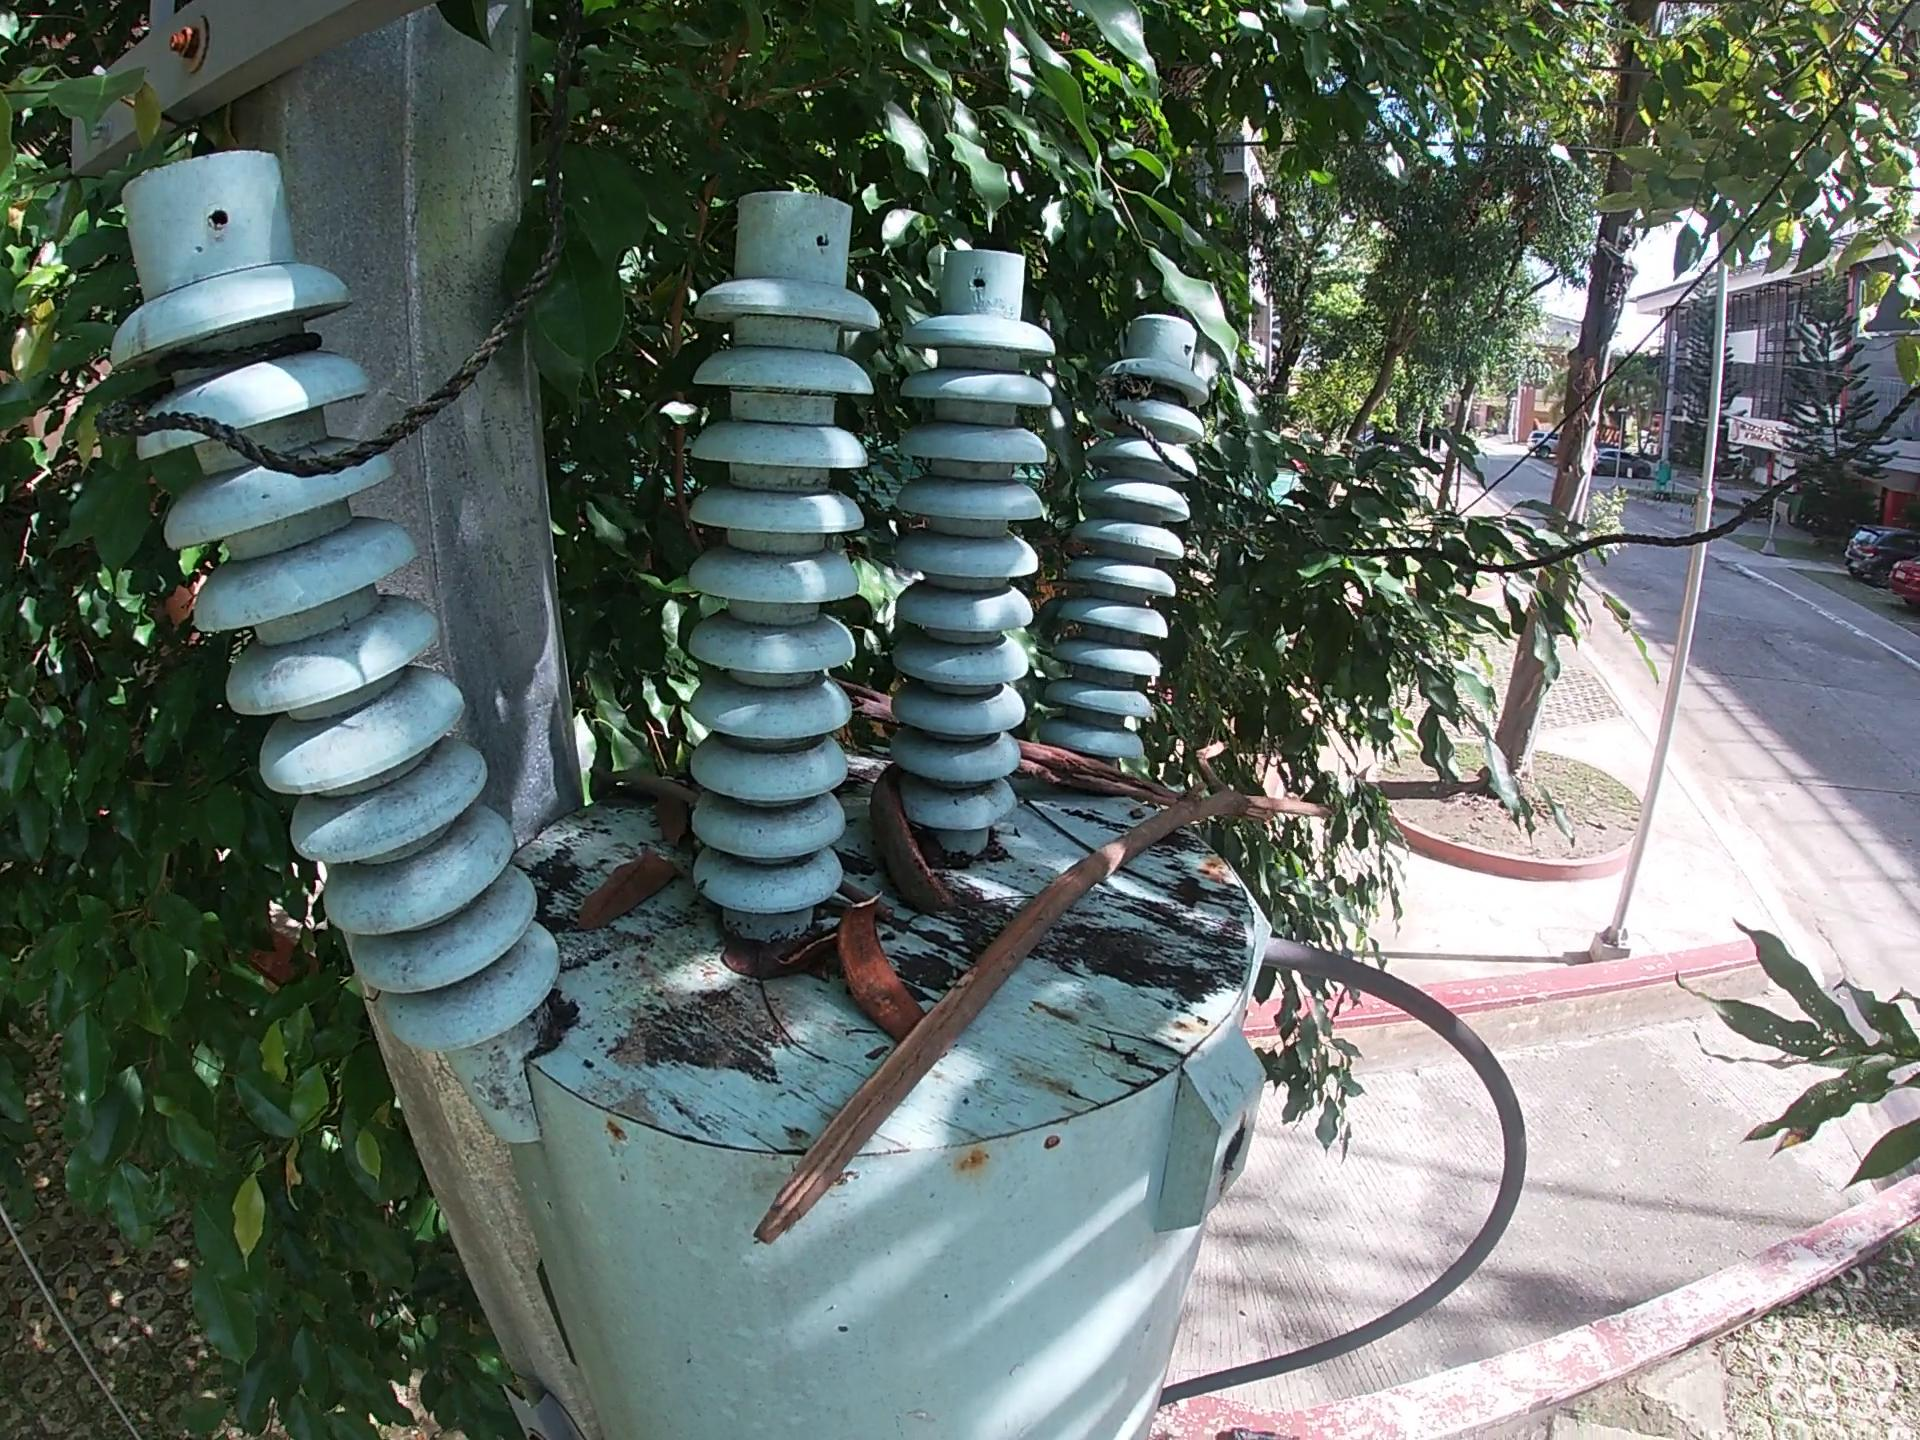leaf: (547, 849, 671, 936), (644, 796, 688, 852), (584, 768, 636, 812)
mahogany fruit: (830, 892, 930, 1048), (862, 762, 966, 909)
tree branch: (763, 782, 1333, 1274), (1005, 734, 1182, 817), (748, 985, 809, 1075), (585, 762, 695, 808), (1126, 867, 1246, 908), (830, 670, 898, 734), (1019, 799, 1095, 852), (779, 929, 848, 965), (844, 886, 893, 920)
